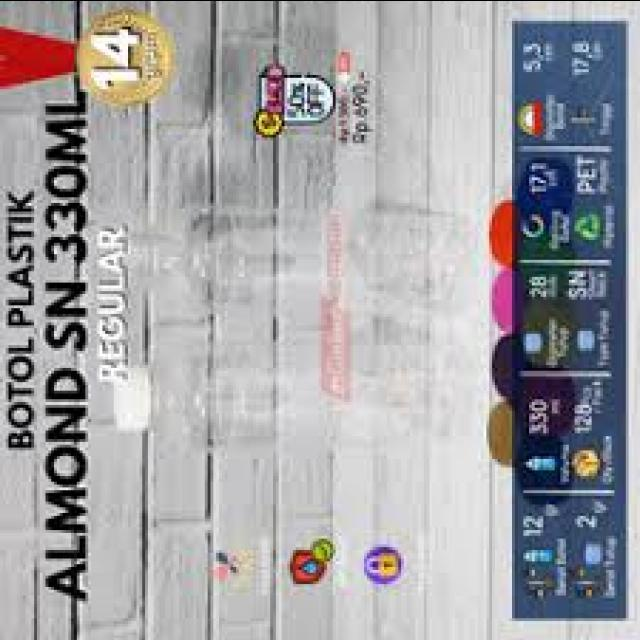good: (96, 338, 462, 458), (124, 198, 472, 314)
